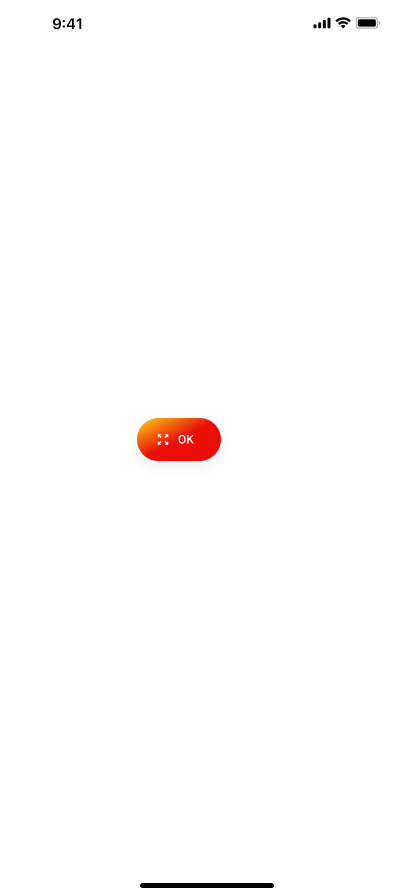Buttons: (122, 409, 236, 482)
Home Indicator: (0, 862, 414, 896)
Status Bar: (0, 0, 414, 44)
